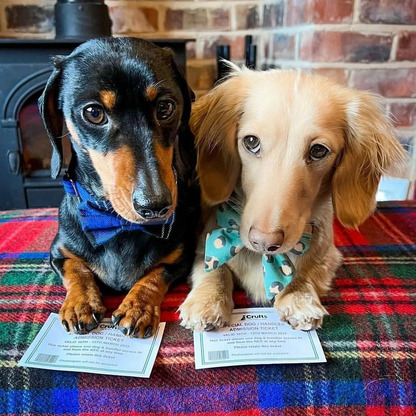dachshund: (208, 63, 388, 339), (40, 37, 202, 337)
